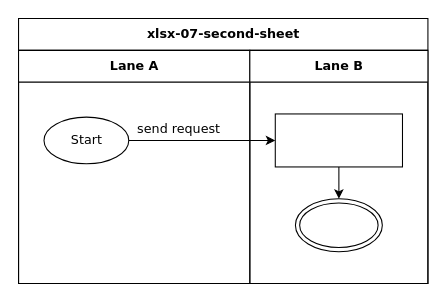
Image size: 447x302. Some labels were removed from this diagram. The centre of each missing label's shape, as x and y in pixels:
"Done" goes at point 338,225.
"Process" goes at point 338,140.
